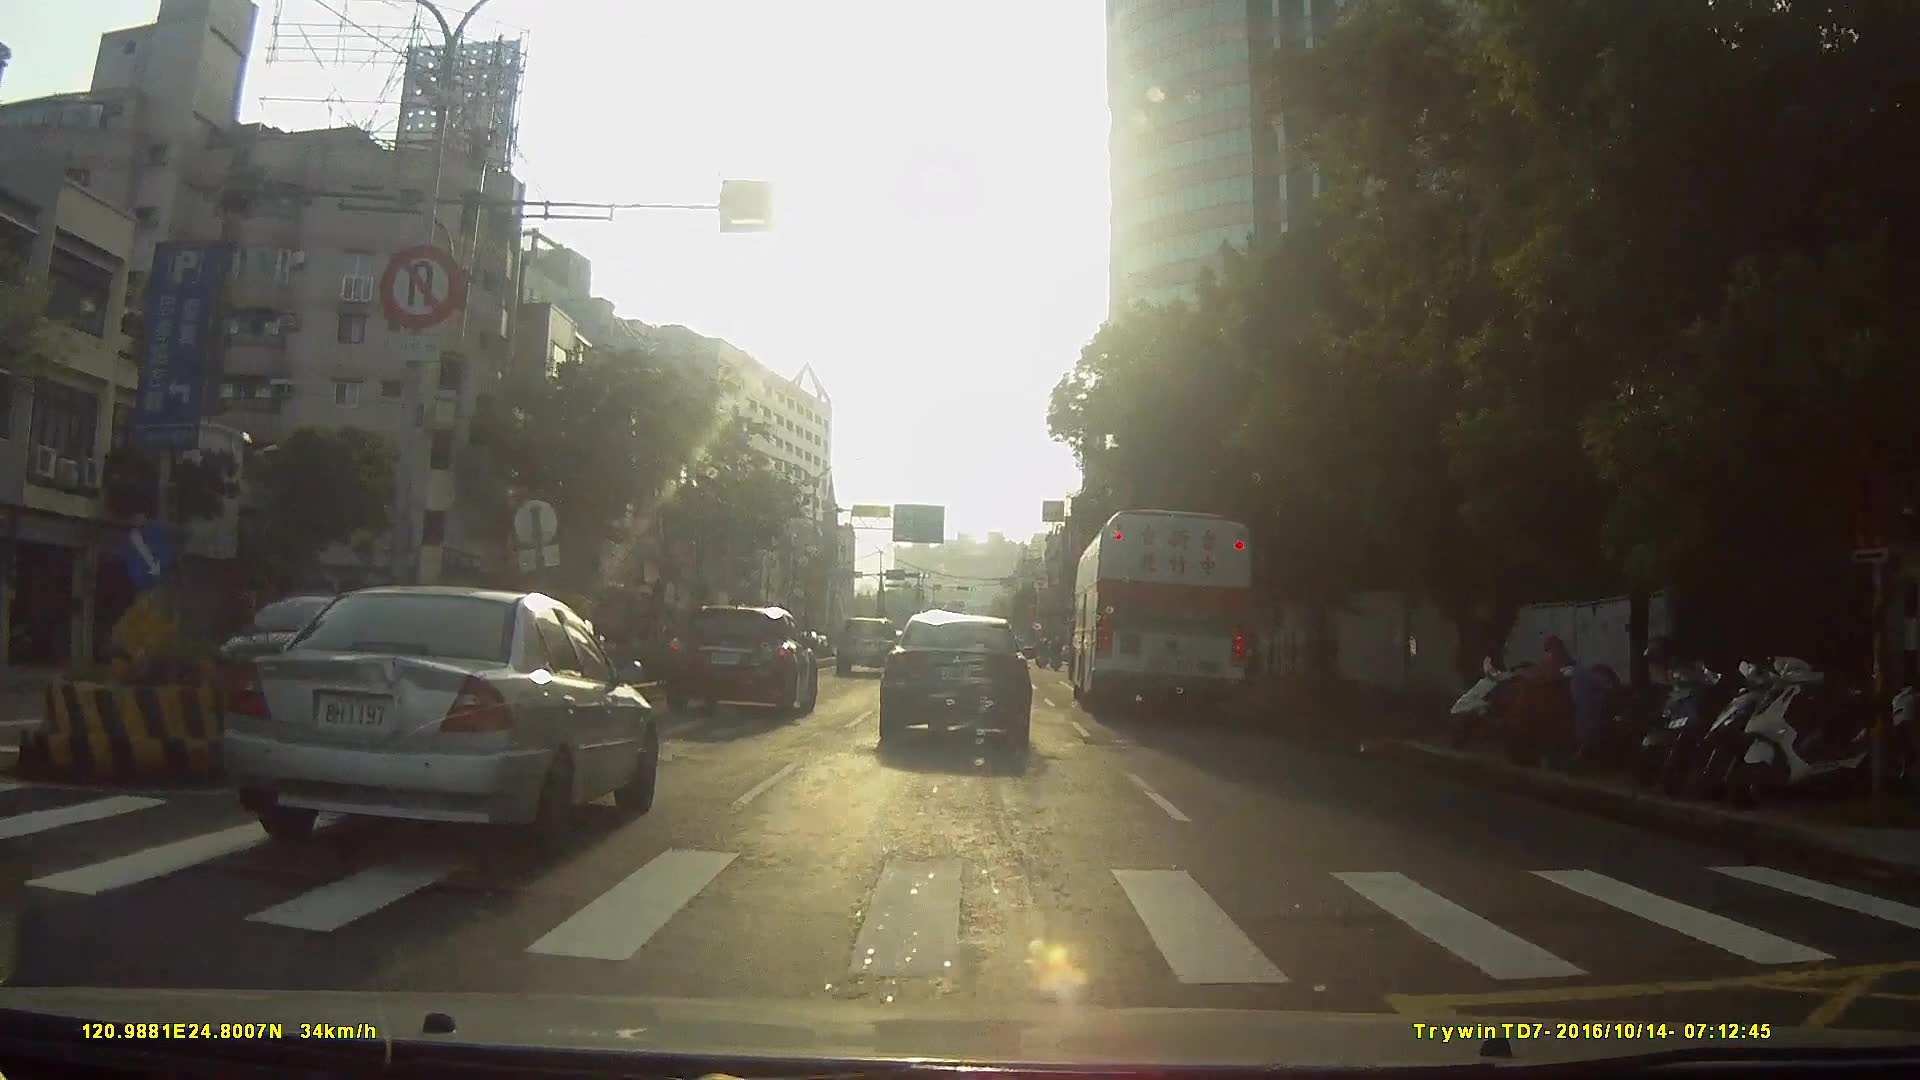vehicle: (212, 579, 654, 858), (1071, 500, 1255, 713), (173, 589, 421, 721), (876, 611, 1033, 753), (665, 603, 818, 721), (833, 612, 899, 673)
